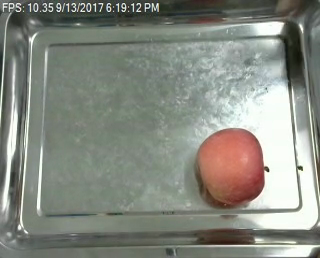Apple: (193, 127, 267, 209)
